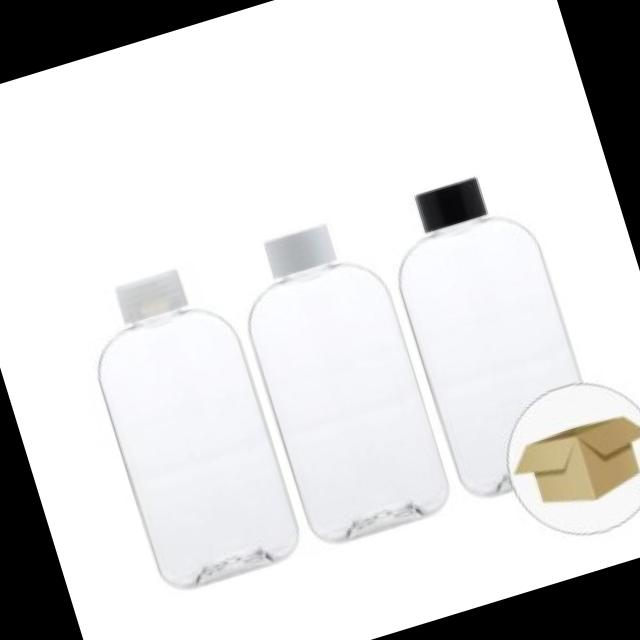BotolPlastik: (70, 253, 306, 598), (221, 208, 457, 552), (372, 161, 608, 505)
